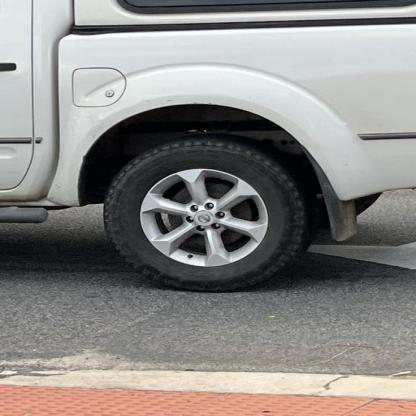Tire: (102, 139, 308, 292)
